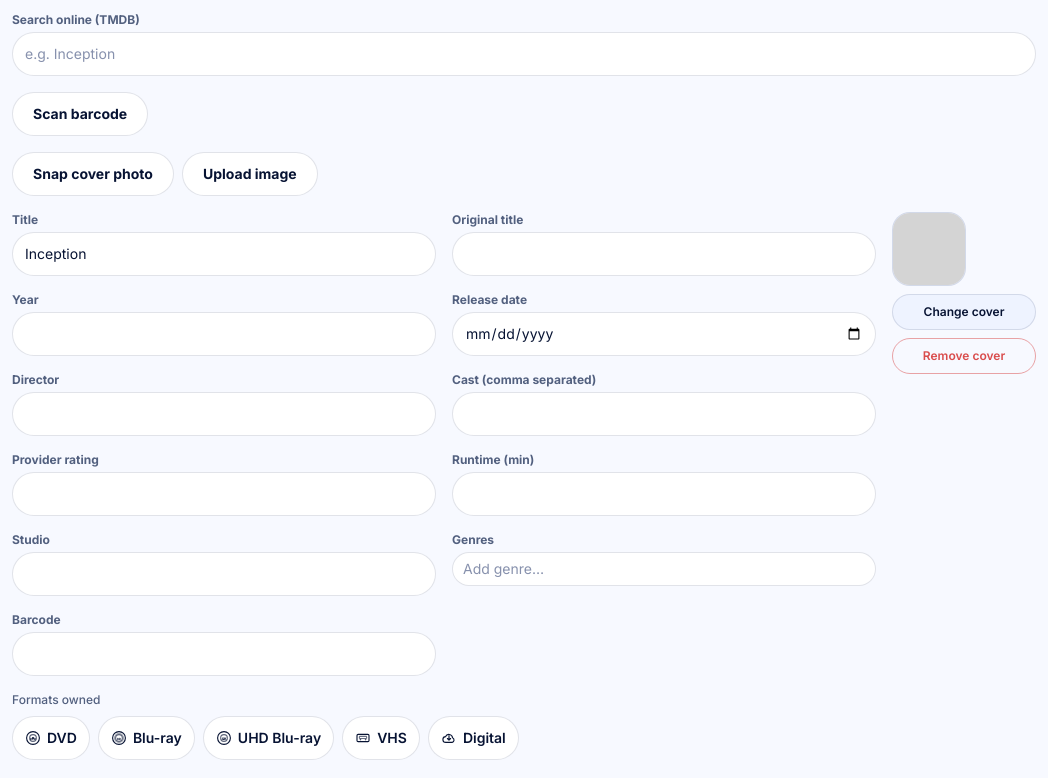
Test: MovieForm — Fetch metadata by TMDB ID › opens the cover editor with one click when an existing cover is collapsed
Click the button "Change cover".
click(964, 312)  # box [892, 294, 1036, 330]
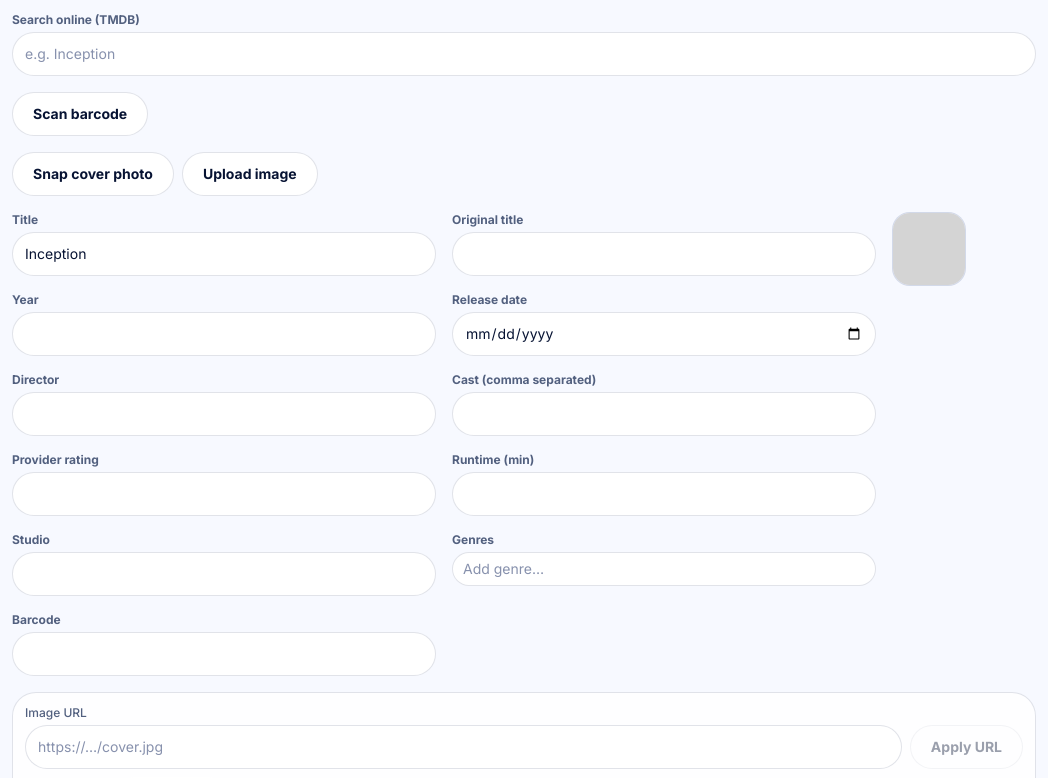
Now the field with placeholder "https://…/cover.jpg" is shown, box [25, 725, 902, 769]
